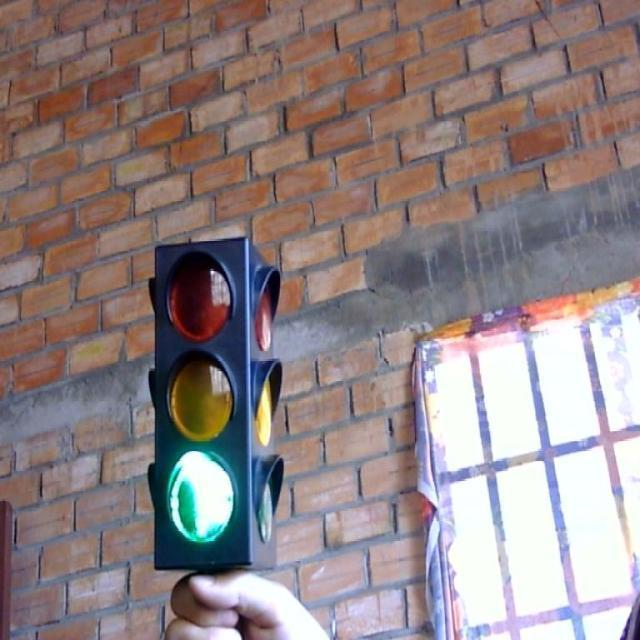green_light: (146, 235, 282, 569)
